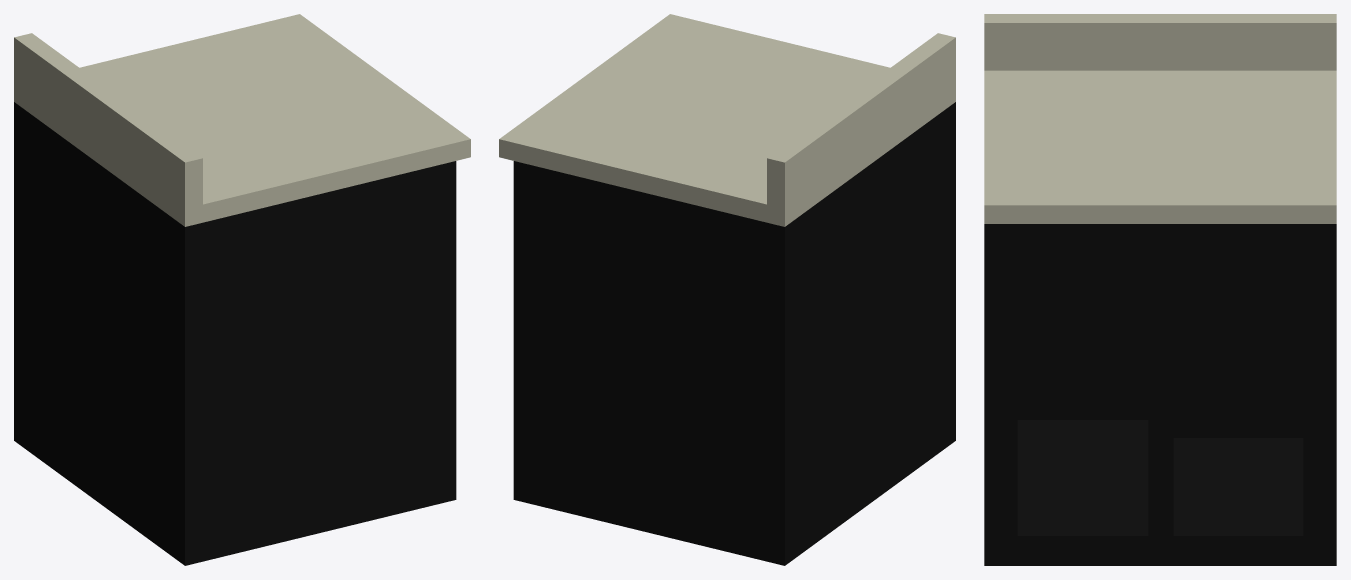
Rendered from Counter.fbx.
3 renders of one model, left to right at view 1: azimuth 30°, elevation 25°; view 2: azimuth 150°, elevation 25°; view 3: azimuth 270°, elevation 25°, orthographic. The views are drawn at different scales.
Parts seen in each view (by area): view 1: Counter; view 2: Counter; view 3: Counter.
Boxes of the visible parts, x1,y1,x2,y2 form: Counter: (14,14,470,565); Counter: (499,14,955,565); Counter: (984,14,1336,565).
Size of the model in its own units: 78.72 by 106 by 81.6.
